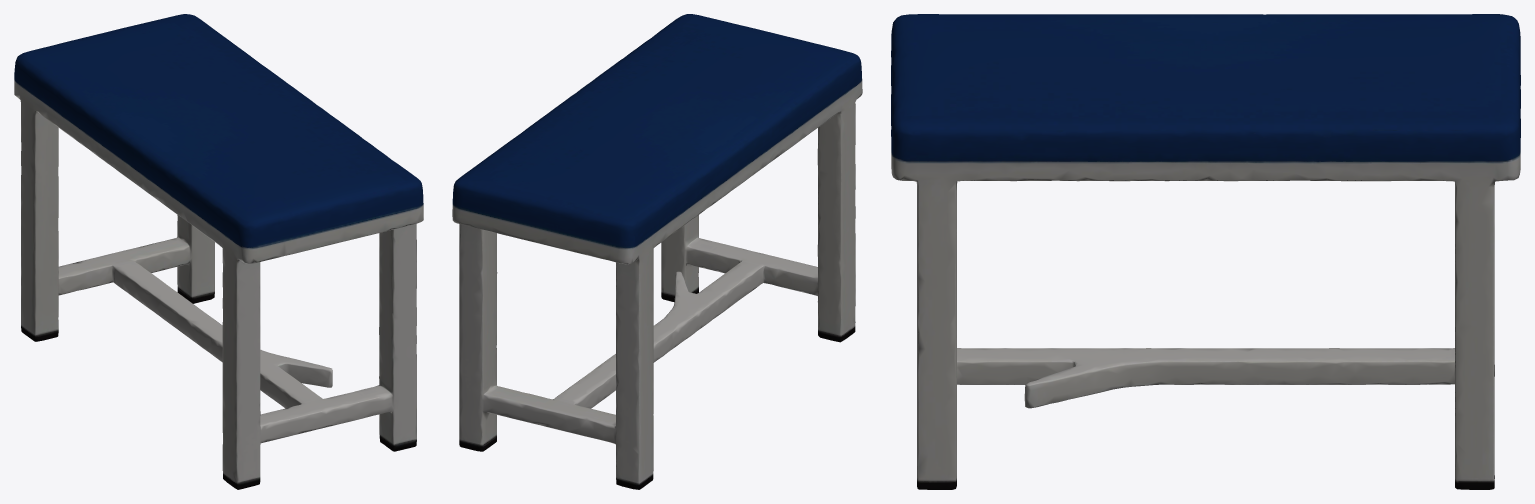
File: exam-table.glb
The picture shows the model from 3 angles, left to right: view 1: azimuth 30°, elevation 25°; view 2: azimuth 150°, elevation 25°; view 3: azimuth 270°, elevation 25°; orthographic projection. The views are drawn at different scales.
Parts seen in each view (by area): view 1: world; view 2: world; view 3: world.
Boxes of the visible parts, x1,y1,x2,y2 form: world: [14, 14, 423, 489]; world: [452, 14, 862, 489]; world: [891, 14, 1520, 489].
Bounding box in the file's own units: 0.4484 × 0.6453 × 1.
1 material, 1 textured.
